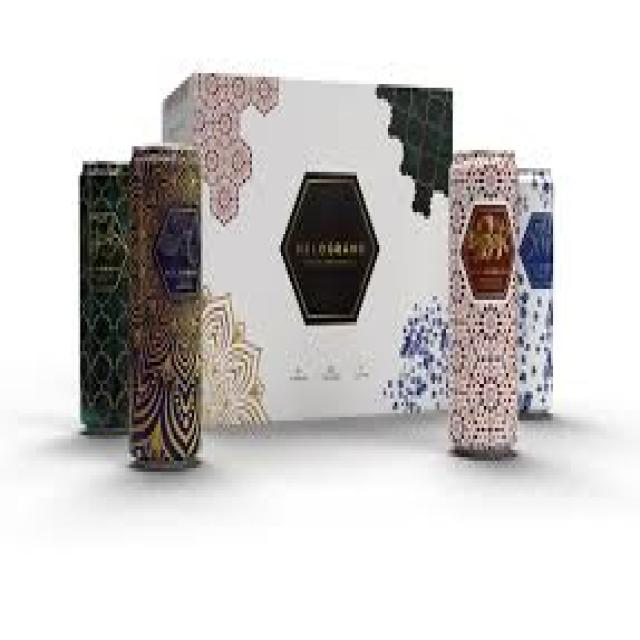Cans: (120, 143, 214, 468), (444, 139, 524, 464)
